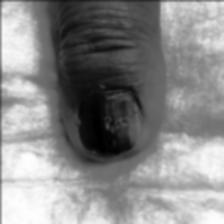Potentially Malignant Skin Tumors: (95, 90, 149, 150)
